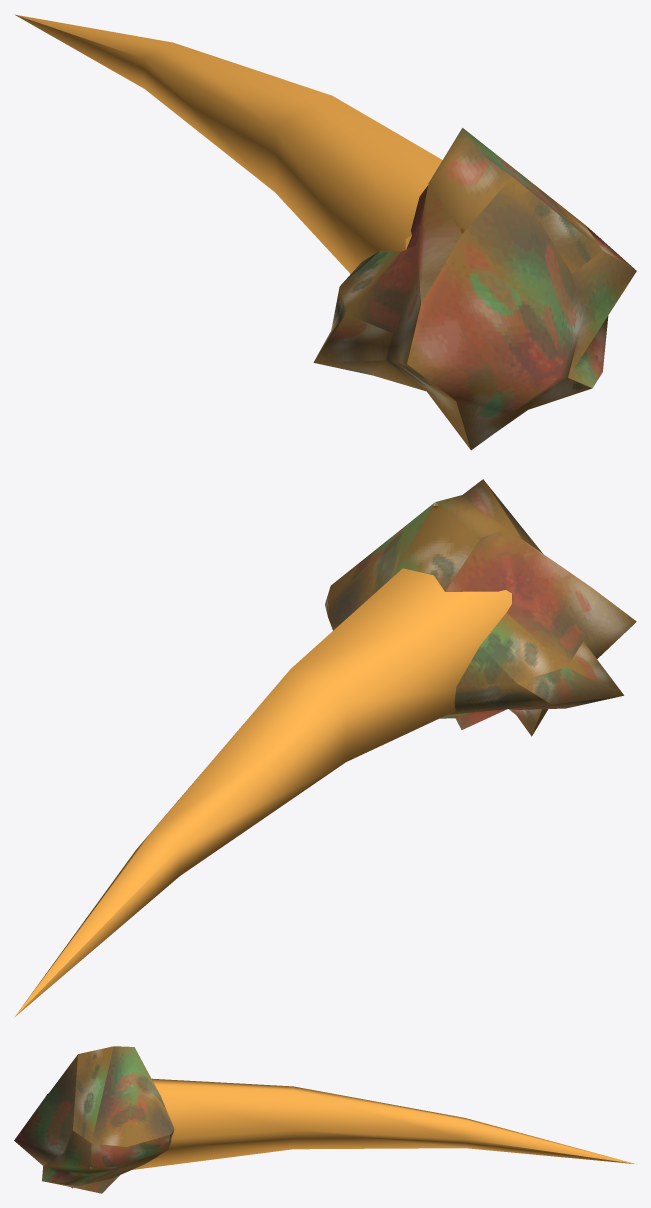
File: Junkbulletmesh.fbx
3 renders of one model, top to bottom at view 1: azimuth 30°, elevation 25°; view 2: azimuth 150°, elevation 25°; view 3: azimuth 270°, elevation 25°, orthographic. The views are drawn at different scales.
Parts seen in each view (by area): view 1: pCone2; view 2: pCone2; view 3: pCone2.
Part boxes in pixels (<box>): pCone2: <box>15,14,636,450</box>; pCone2: <box>14,479,636,1017</box>; pCone2: <box>14,1046,636,1193</box>.
Bounding box in the file's own units: 66.14 × 55.74 × 204.
